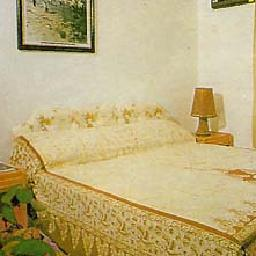Cama: (18, 134, 252, 255)
